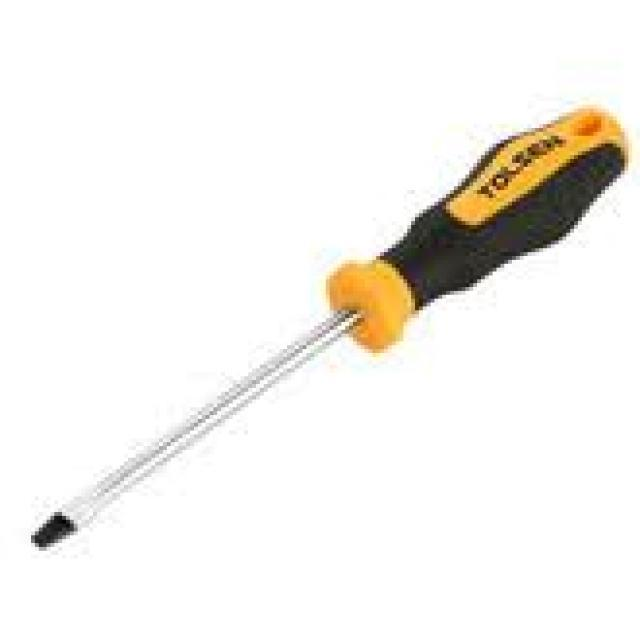screwdriver: (24, 106, 628, 556)
